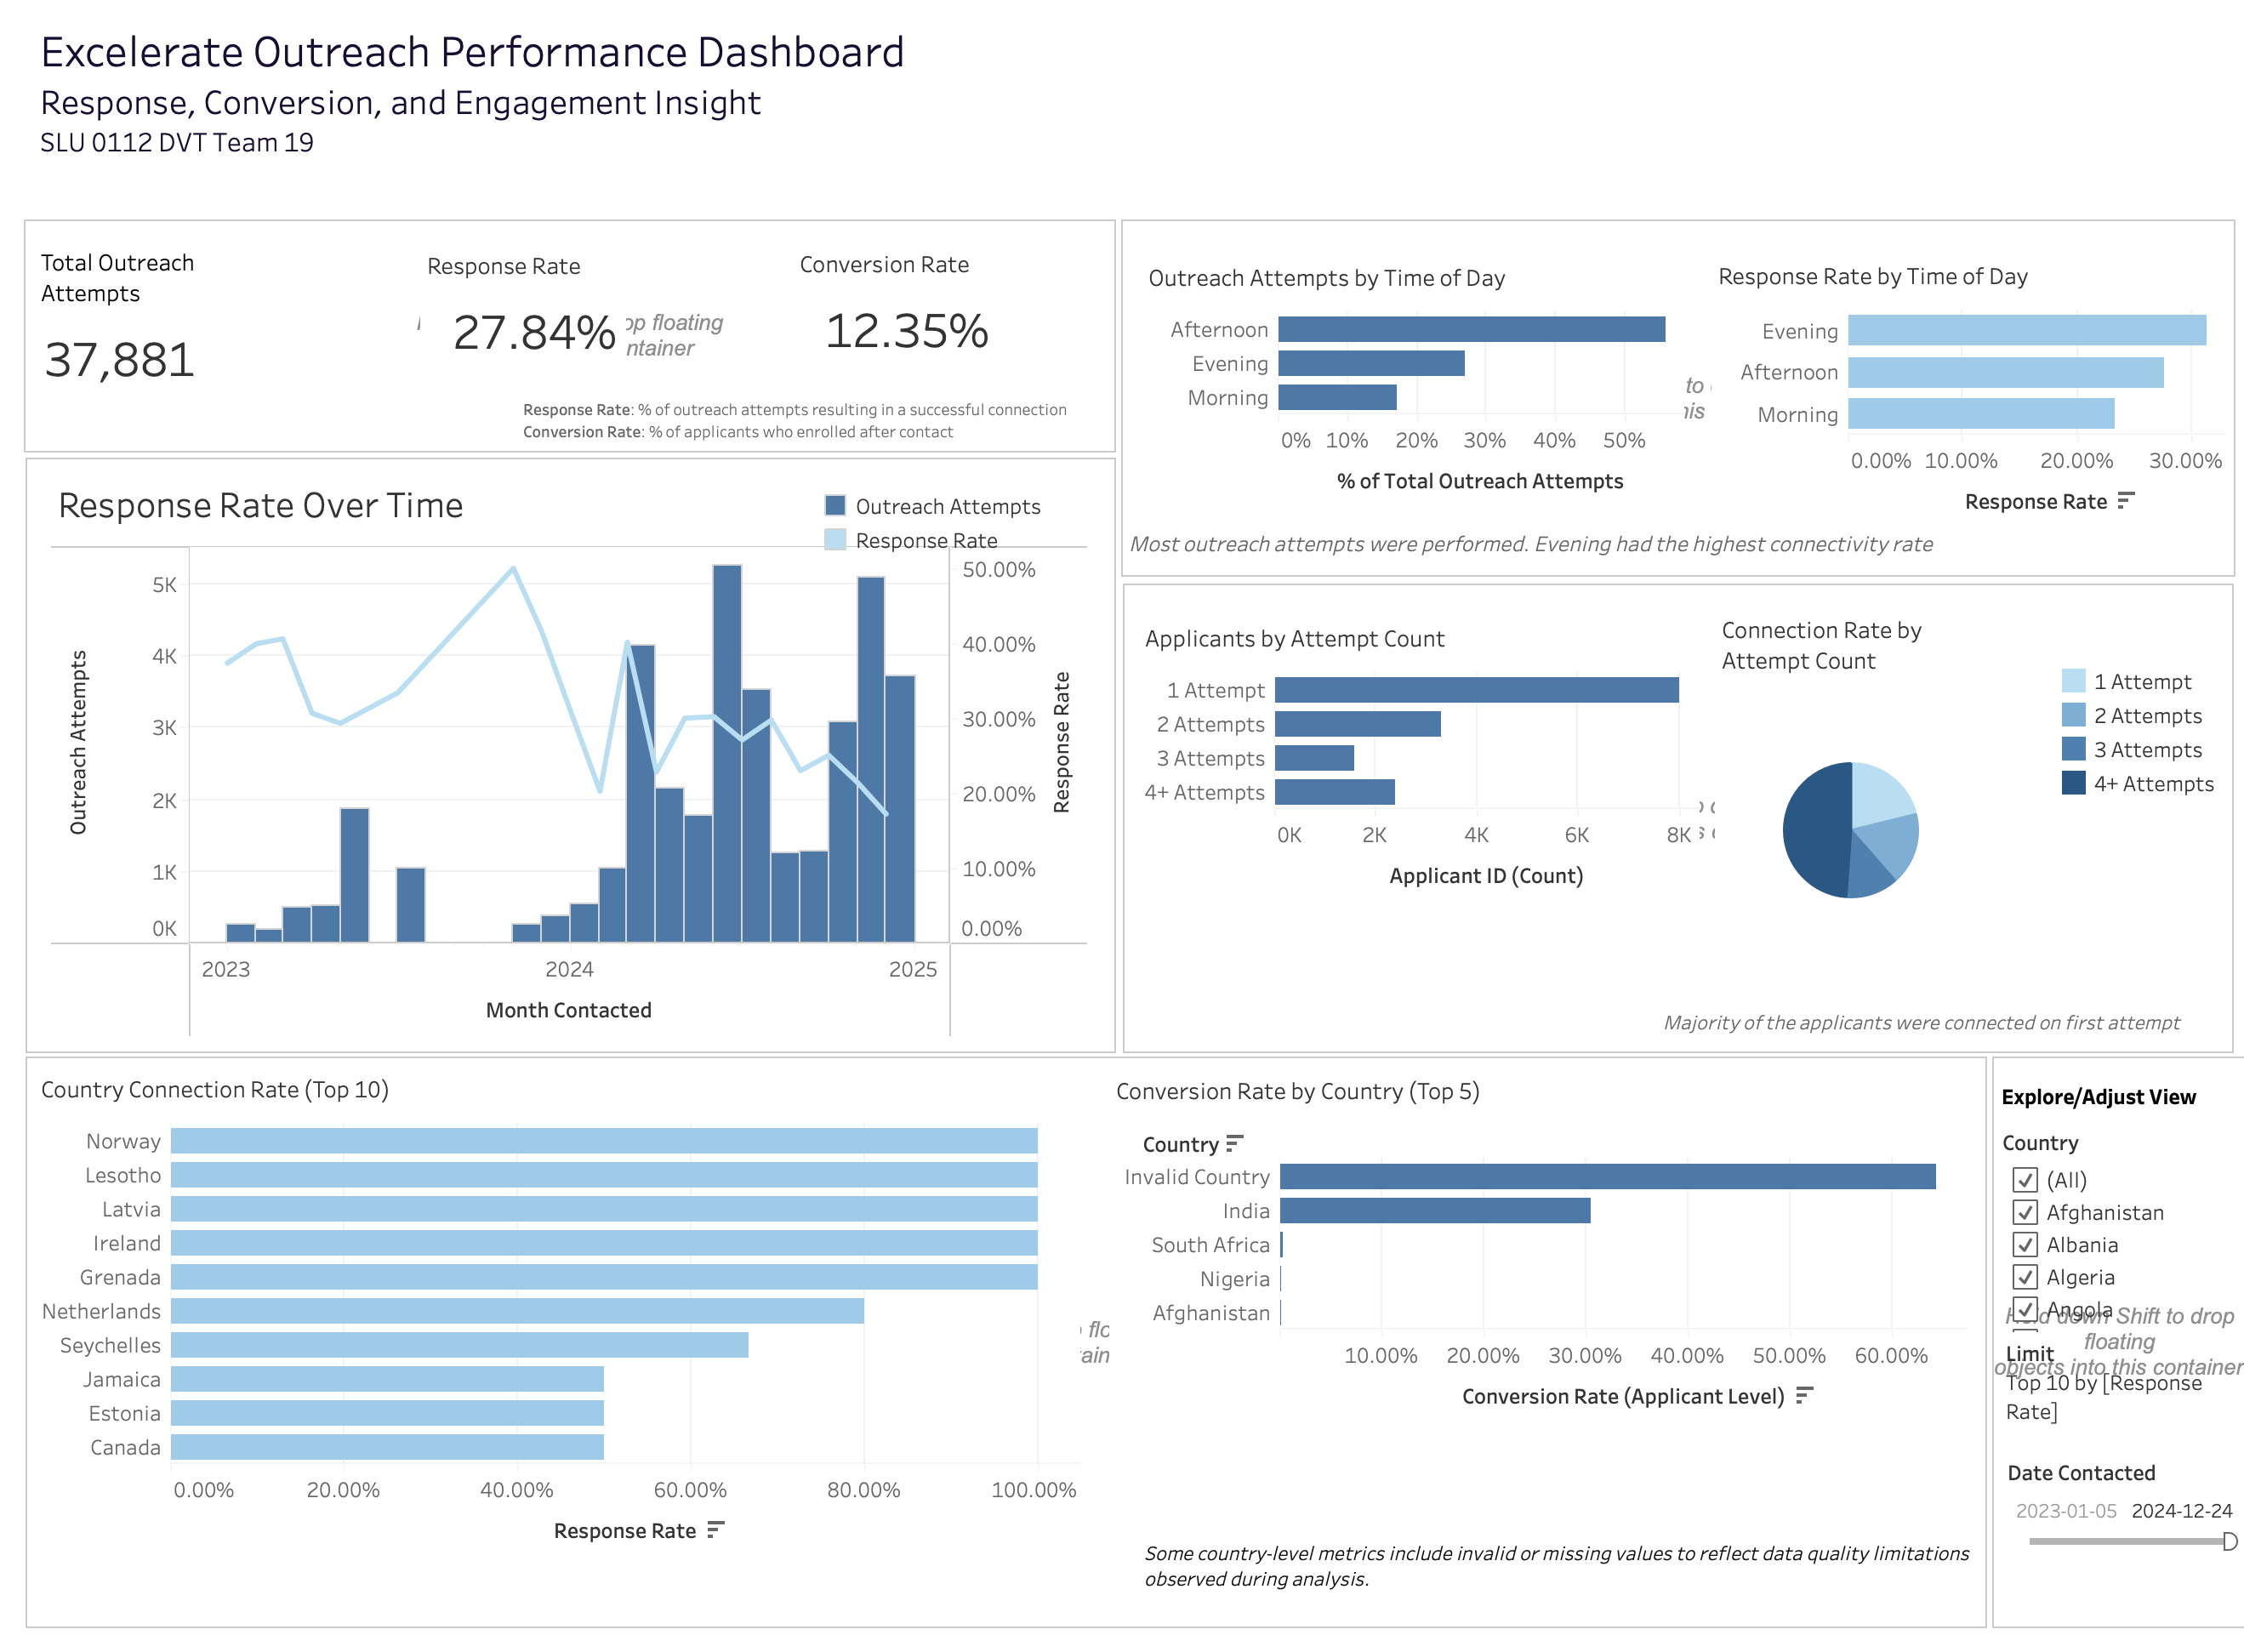

Layout of this report page (visuals, bound fields, positions):
{"tool":"tableau","page":{"name":"Dashboard 2","canvas":[1000,1000],"units":"permille","ordinal":1},"visuals":[{"type":"title","box":[6.1,8.9,987.9,100.5]},{"type":"worksheet","title":"Outreach Attempts","mark":"Automatic","box":[8.3,145.3,169.7,116.3]},{"type":"worksheet","title":"Conversion Rate","mark":"Automatic","box":[346.2,146.5,137.9,115.1]},{"type":"worksheet","title":"Response Rate (Connected)","mark":"Automatic","box":[180.3,147.7,140.2,117.4]},{"type":"worksheet","title":"Response Rate by Time of Day","mark":"Automatic","rows":["Time_period"],"cols":["Calculation_4558416896176529414"],"box":[755.3,154,228.8,167.4]},{"type":"worksheet","title":"Outreach Attempts by Time of Day","mark":"Automatic","rows":["Time_period"],"cols":["Calculation_4558416896163803136"],"box":[501.5,155.1,241.7,168.5]},{"type":"text","box":[224.2,241.1,263.6,32.4]},{"type":"legend","title":"Response Rate Over Time","param":"[federated.0ai2py60q21y7812slnyf0pjahix].[:Measure Names]","box":[357.6,279,130.3,60.3]},{"type":"worksheet","title":"Response Rate Over Time","mark":"Automatic","rows":["Calculation_4558416896163803136","Calculation_4558416896176529414"],"cols":["Date_Contacted"],"box":[15.9,289.1,462.1,346]},{"type":"text","box":[493.9,312.5,362.9,38]},{"type":"worksheet","title":"Connection Rate by Attempt Count","mark":"Pie","box":[756.8,370.5,225.8,237.7]},{"type":"worksheet","title":"Applicants by Attempt Count","mark":"Automatic","rows":["Calculation_4445967642960953347"],"cols":["Applicant_ID"],"box":[500,376.1,250,253.3]},{"type":"legend","title":"Connection Rate by Attempt Count","param":"[federated.0ai2py60q21y7812slnyf0pjahix].[none:Calculation_4445967642960953347:n","box":[909.1,386.1,74.2,110.5]},{"type":"text","box":[731.8,608.3,255.3,33.5]},{"type":"worksheet","title":"Country Connection Rate (Top 10)","mark":"Automatic","rows":["Country"],"cols":["Calculation_4558416896176529414"],"box":[8.3,651.8,465.9,338.2]},{"type":"worksheet","title":"Conversion Rate by Country (Top 5)","mark":"Automatic","rows":["Country"],"cols":["Calculation_4558416896171950084"],"box":[487.1,652.9,382.6,250]},{"type":"text","box":[882.6,652.9,91.7,33.5]},{"type":"filter","title":"Country Connection Rate (Top 10)","param":"[federated.0ai2py60q21y7812slnyf0pjahix].[none:Country:nk]","box":[884.9,689.7,99.2,186.4]},{"type":"filter","title":"Response Rate Over Time","param":"[federated.0ai2py60q21y7812slnyf0pjahix].[none:Date_Contacted:qk]","box":[887.1,891.7,106.1,68.1]},{"type":"text","box":[500.8,919.6,376.5,77]}]}

Visuals, with their boxes on the dashboard's canvas, which has no fixed pixel size, in thousandths of its width and height (x1, y1, x2, y2). These are canvas units, not pixel positions in the 2244x1652 screenshot, which may show the page scaled, cropped or inside an application window:
title: bbox=[6, 9, 994, 109]
"Outreach Attempts" worksheet: bbox=[8, 145, 178, 262]
"Conversion Rate" worksheet: bbox=[346, 146, 484, 262]
"Response Rate (Connected)" worksheet: bbox=[180, 148, 320, 265]
"Response Rate by Time of Day" worksheet: bbox=[755, 154, 984, 321]
"Outreach Attempts by Time of Day" worksheet: bbox=[502, 155, 743, 324]
text: bbox=[224, 241, 488, 274]
"Response Rate Over Time" legend: bbox=[358, 279, 488, 339]
"Response Rate Over Time" worksheet: bbox=[16, 289, 478, 635]
text: bbox=[494, 312, 857, 350]
"Connection Rate by Attempt Count" worksheet (Pie marks): bbox=[757, 370, 983, 608]
"Applicants by Attempt Count" worksheet: bbox=[500, 376, 750, 629]
"Connection Rate by Attempt Count" legend: bbox=[909, 386, 983, 497]
text: bbox=[732, 608, 987, 642]
"Country Connection Rate (Top 10)" worksheet: bbox=[8, 652, 474, 990]
"Conversion Rate by Country (Top 5)" worksheet: bbox=[487, 653, 870, 903]
text: bbox=[883, 653, 974, 686]
"Country Connection Rate (Top 10)" filter: bbox=[885, 690, 984, 876]
"Response Rate Over Time" filter: bbox=[887, 892, 993, 960]
text: bbox=[501, 920, 877, 997]
